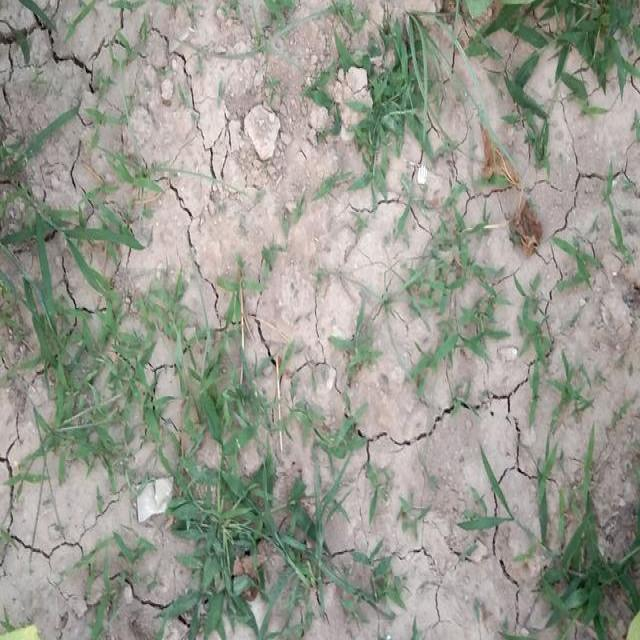weed: (466, 429, 635, 635), (497, 0, 640, 145), (146, 289, 255, 466), (18, 349, 134, 477), (168, 481, 260, 640), (5, 193, 132, 306), (421, 235, 496, 374), (275, 470, 336, 626), (514, 284, 554, 416), (325, 326, 392, 378)
